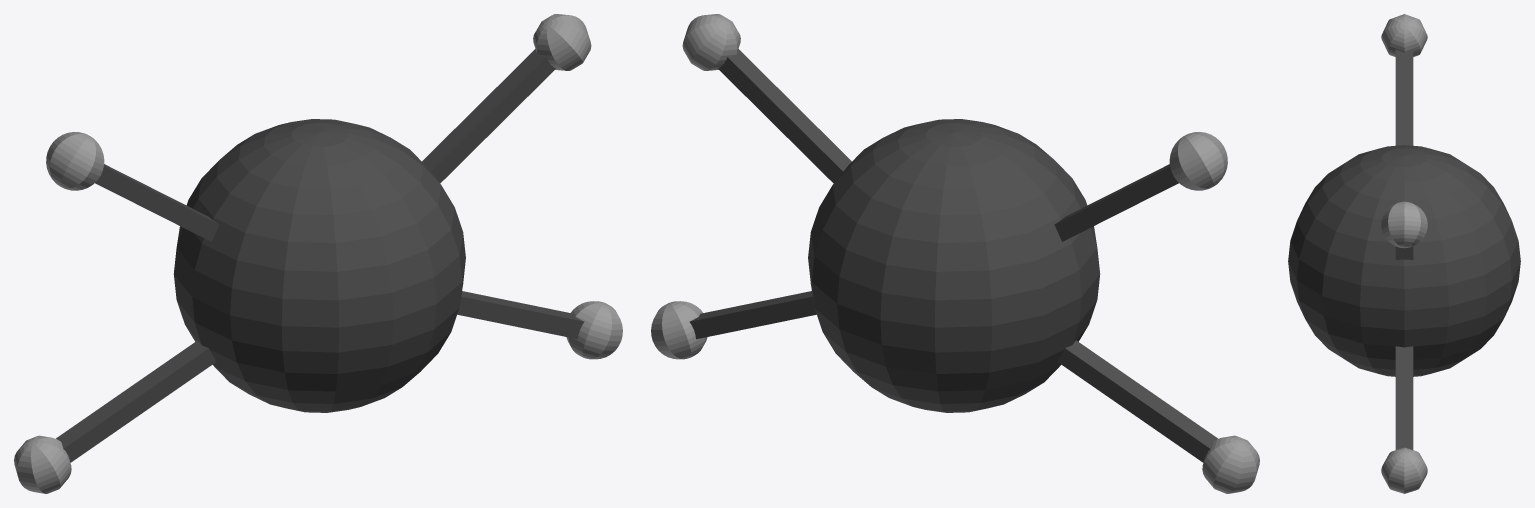
The model's file is enemyChest.obj.
3 renders of one model, left to right at view 1: azimuth 30°, elevation 25°; view 2: azimuth 150°, elevation 25°; view 3: azimuth 270°, elevation 25°, orthographic. The views are drawn at different scales.
Parts seen in each view (by area): view 1: chest; view 2: chest; view 3: chest.
Boxes of the visible parts, box(x1,y1,x2,y2) form: chest: box(14, 14, 622, 493); chest: box(651, 14, 1259, 493); chest: box(1288, 14, 1520, 493).
Bounding box in the file's own units: 7.08 × 3.92 × 3.
Materials: 1 (1 with a texture image).
